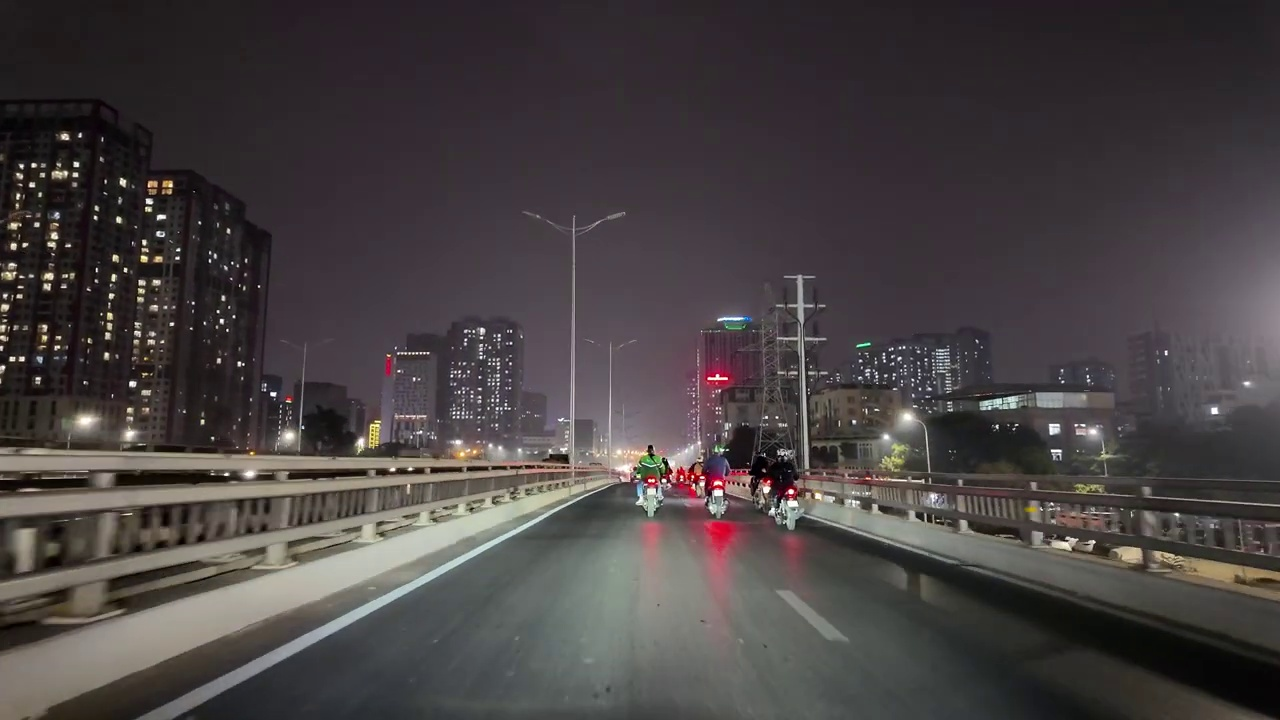acesa: (895, 409, 920, 430)
apagada: (598, 207, 631, 223), (520, 206, 542, 223)
